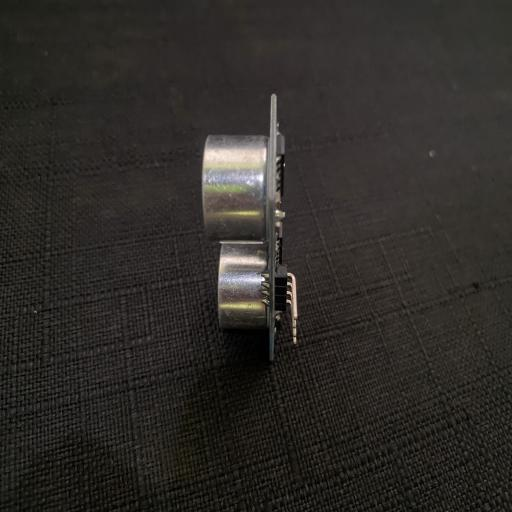Ultrasonic Sensor: (200, 92, 298, 364)
